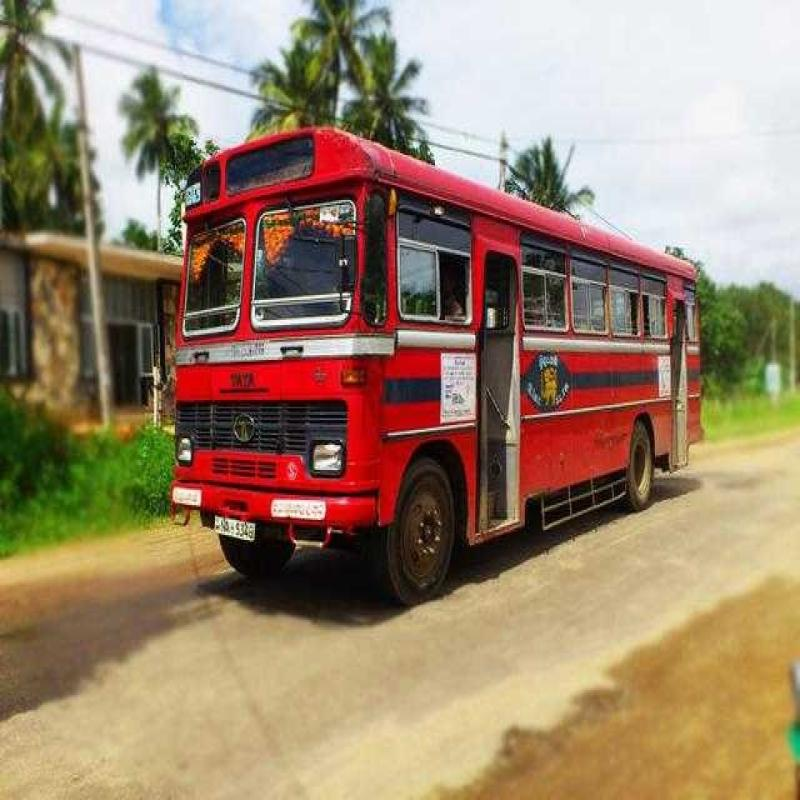bus: (177, 106, 776, 586)
